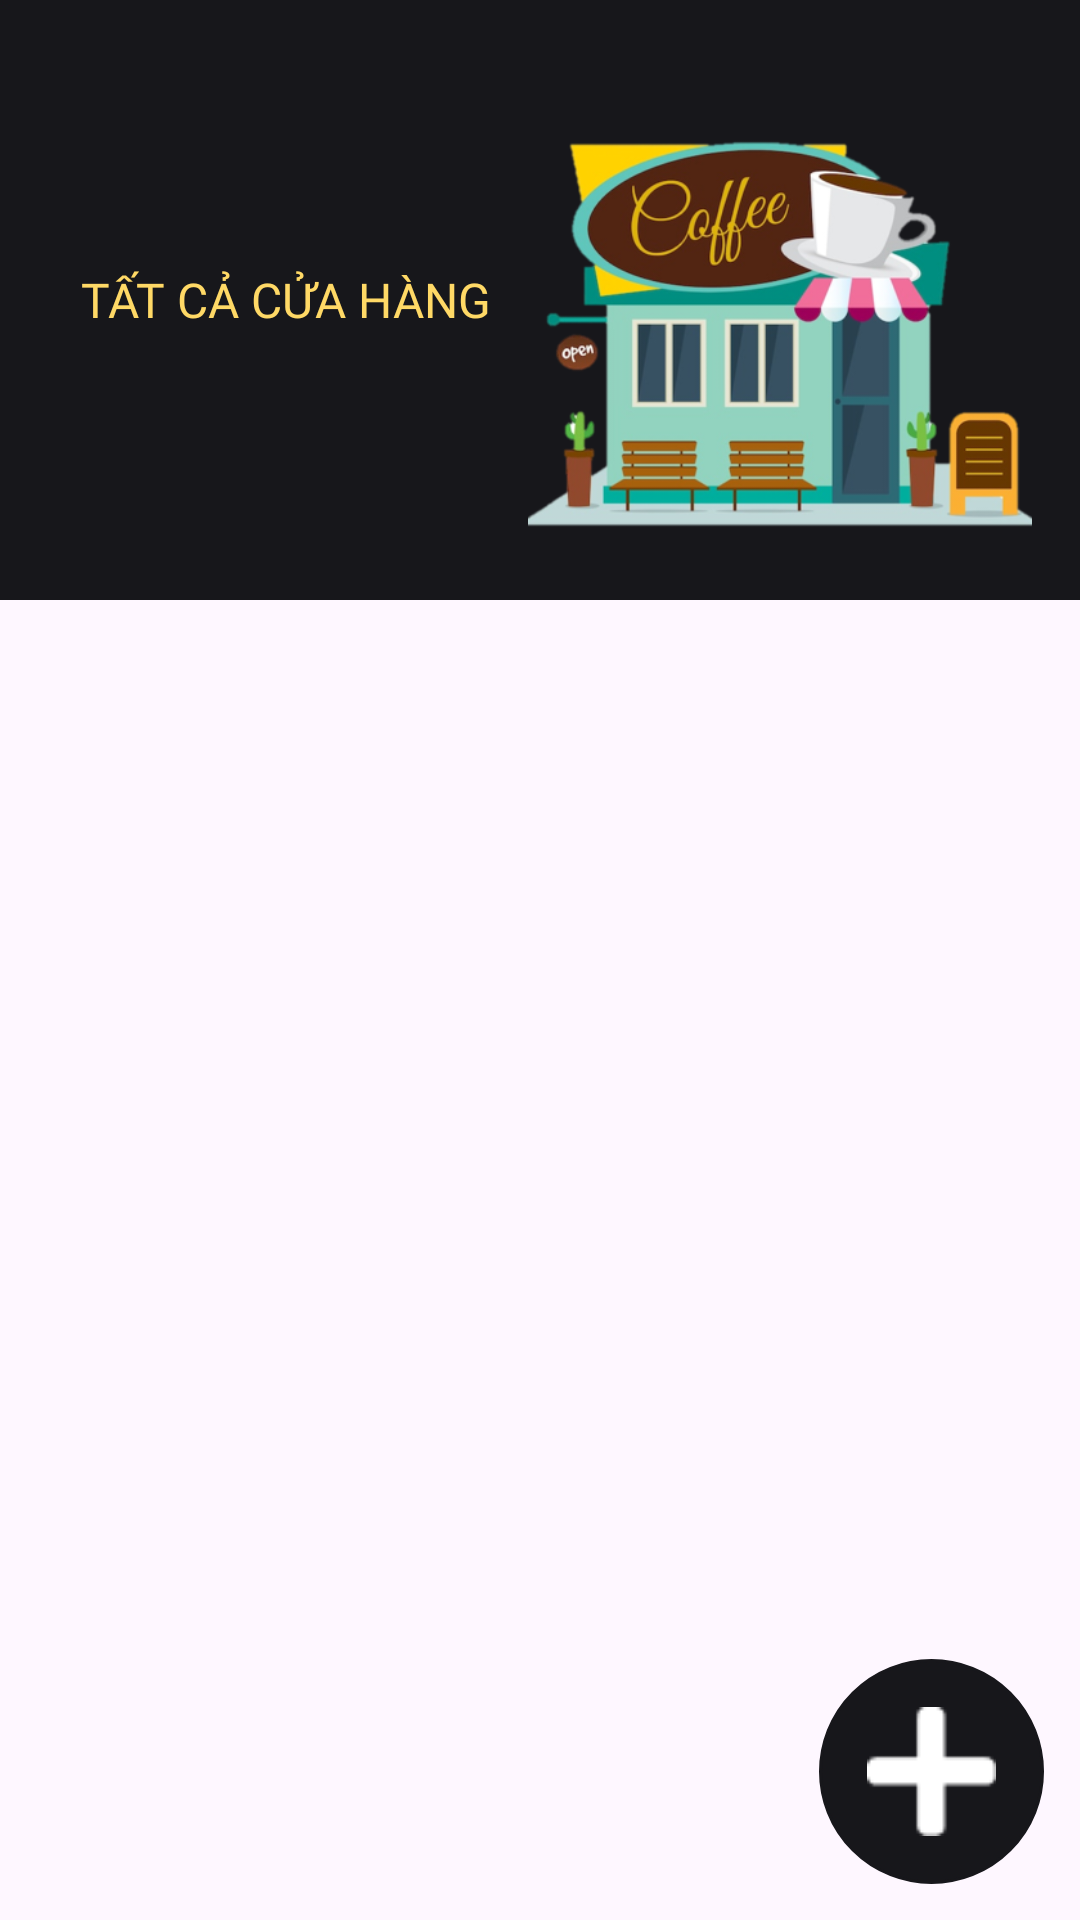

Icons on this 1080x1920 Android screen, each with the point to tap as [x,y]:
plus: [931,1771]
